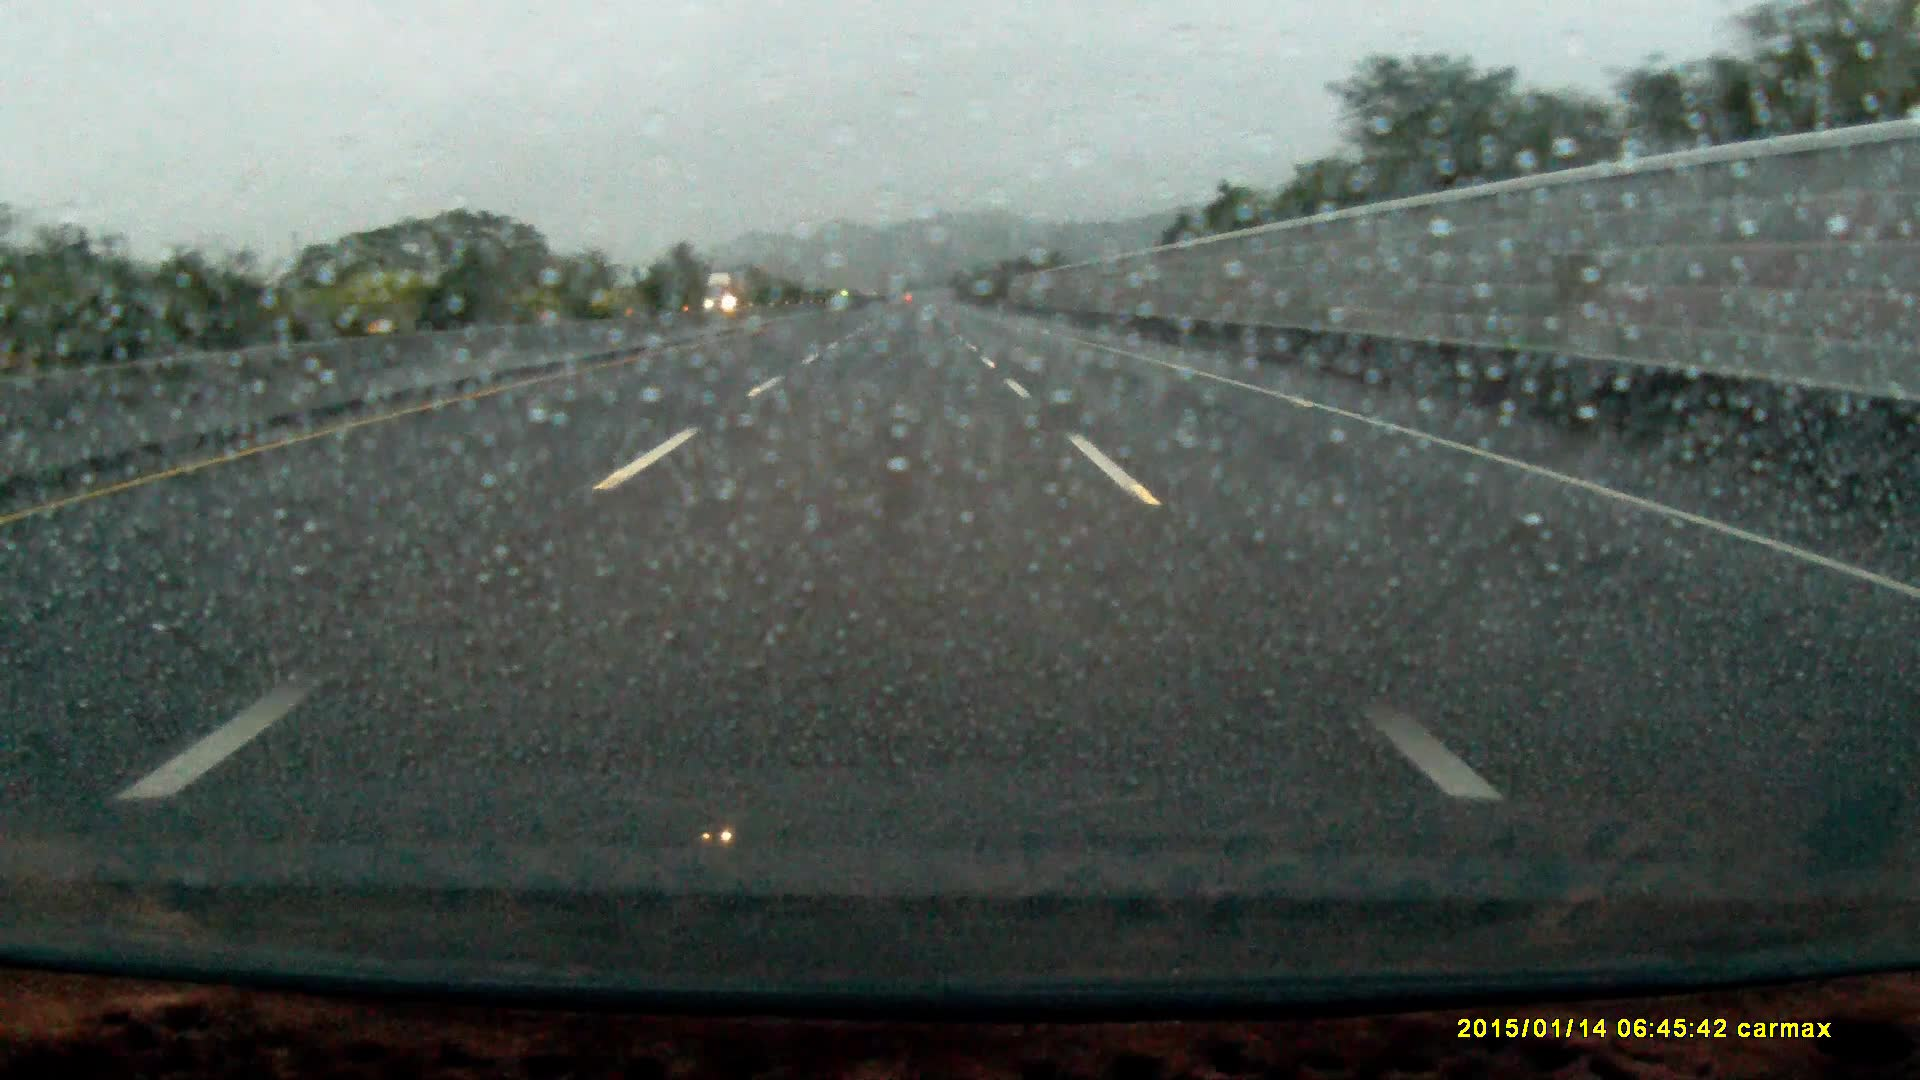vehicle: (702, 274, 748, 318)
